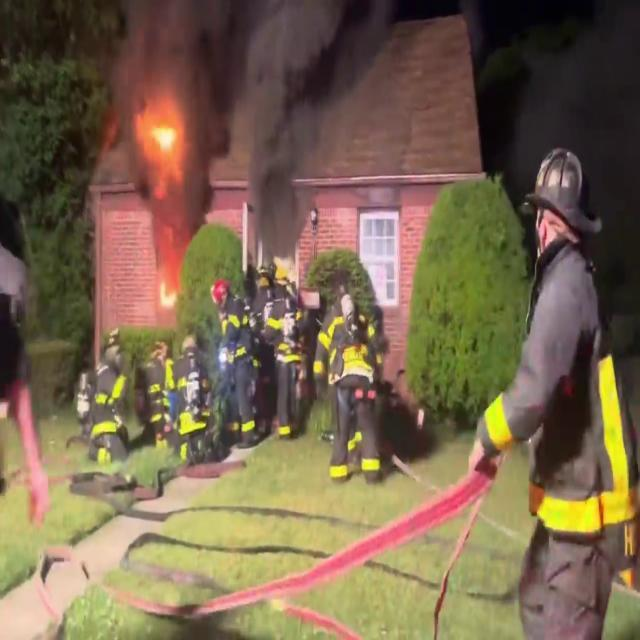Fire: (130, 89, 193, 198)
Smoke: (108, 0, 337, 231)
